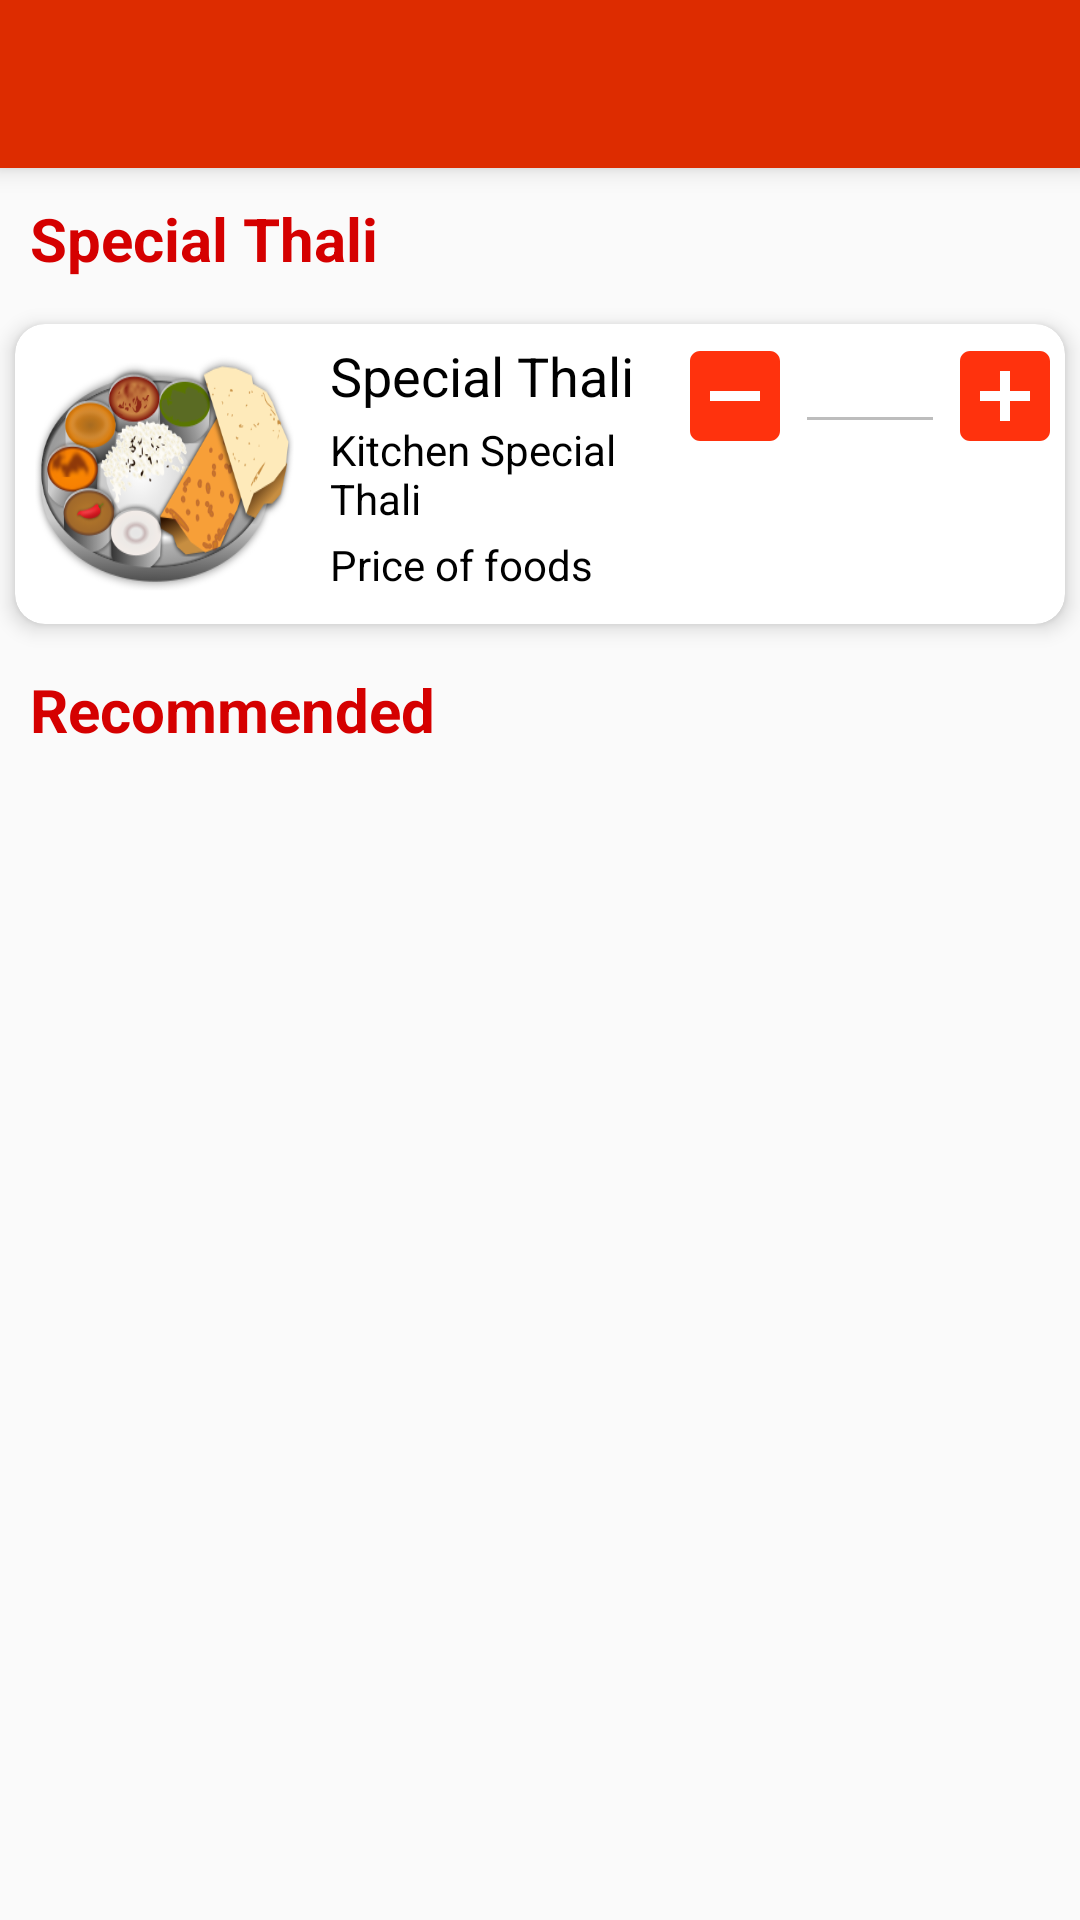

Named icons in this screenshot (1080w x 1920h) and their bounding boxes, (x1, y1, x2, y2):
add: (960, 351, 1050, 441)
minus: (690, 351, 780, 441)
